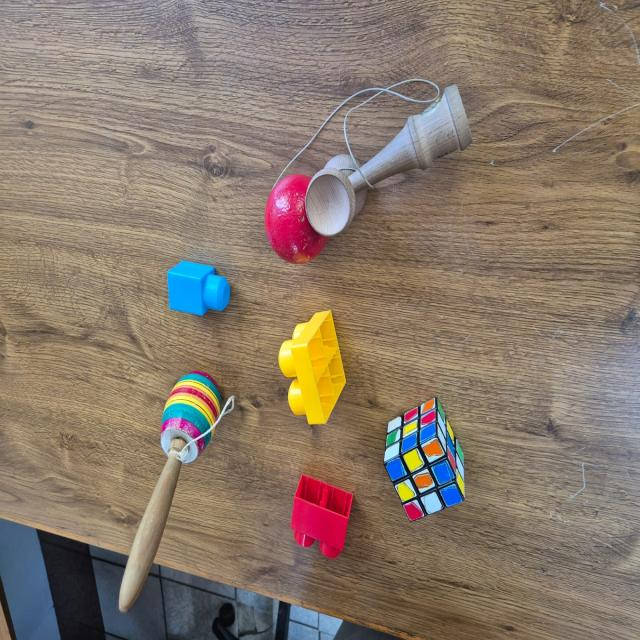balero: (117, 367, 236, 612)
balero ball: (265, 76, 476, 268)
lego 2: (290, 473, 353, 559)
lego 4: (279, 310, 345, 422)
lego_1: (165, 261, 232, 317)
rubick: (382, 398, 467, 518)
